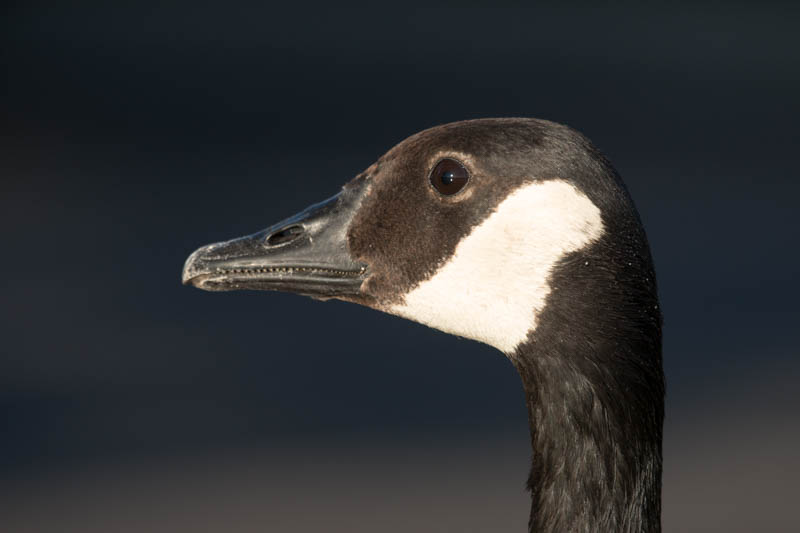goose-head: (179, 118, 664, 359)
